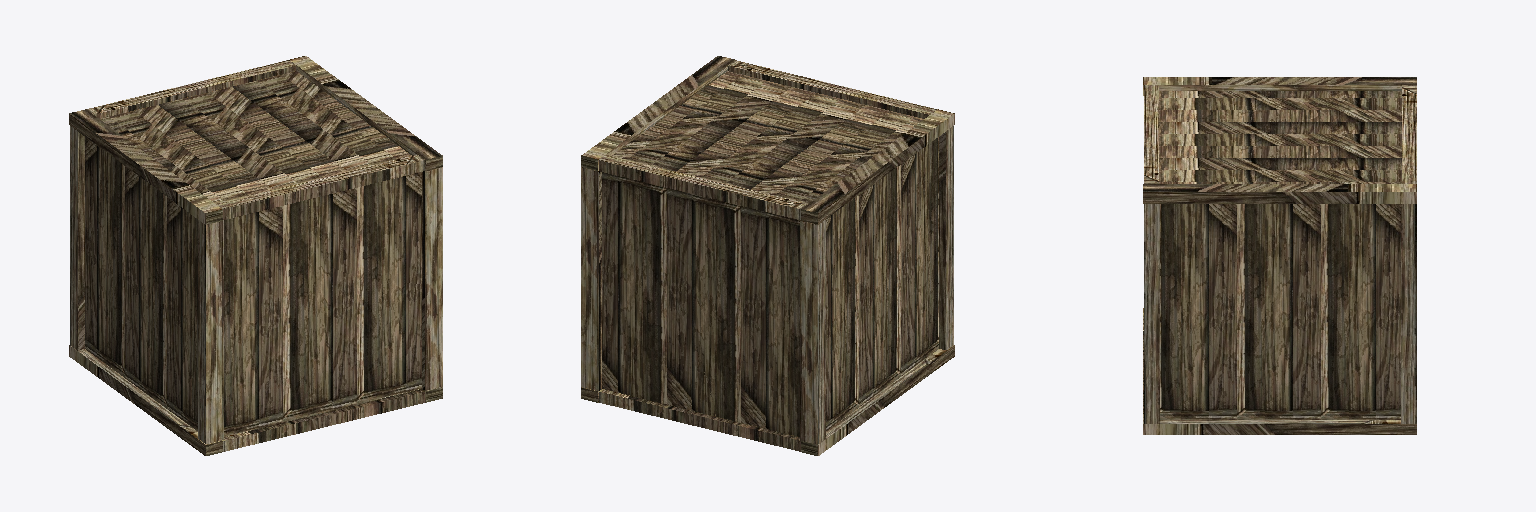
3 views of the same model, side by side, from view 1: azimuth 30°, elevation 25°; view 2: azimuth 150°, elevation 25°; view 3: azimuth 270°, elevation 25° (orthographic).
Visible parts, largest first — view 1: wooden_crate_011, wooden_crate_001, wooden_crate_012, wooden_crate_004, wooden_crate_009, wooden_crate_005, wooden_crate_013, wooden_crate_010, wooden_crate_c; view 2: wooden_crate_010, wooden_crate_001, wooden_crate_012, wooden_crate_002, wooden_crate_005, wooden_crate_004, wooden_crate_c, wooden_crate_011, wooden_crate_013; view 3: wooden_crate_003, wooden_crate_001, wooden_crate_006, wooden_crate_012, wooden_crate_c, wooden_crate_009, wooden_crate_002, wooden_crate_011, wooden_crate_010, wooden_crate_013.
Part boxes in pixels (bbox=[...]): wooden_crate_011: bbox=[198, 199, 442, 443]; wooden_crate_001: bbox=[69, 56, 336, 197]; wooden_crate_012: bbox=[169, 79, 442, 224]; wooden_crate_004: bbox=[85, 137, 197, 328]; wooden_crate_009: bbox=[308, 167, 442, 288]; wooden_crate_005: bbox=[85, 256, 197, 430]; wooden_crate_013: bbox=[105, 370, 442, 455]; wooden_crate_010: bbox=[70, 71, 294, 350]; wooden_crate_c: bbox=[69, 345, 112, 381]; wooden_crate_010: bbox=[581, 167, 825, 444]; wooden_crate_001: bbox=[581, 130, 918, 224]; wooden_crate_012: bbox=[613, 56, 954, 150]; wooden_crate_002: bbox=[581, 265, 715, 415]; wooden_crate_005: bbox=[826, 204, 938, 430]; wooden_crate_004: bbox=[826, 137, 938, 363]; wooden_crate_c: bbox=[581, 387, 854, 455]; wooden_crate_011: bbox=[939, 126, 953, 349]; wooden_crate_013: bbox=[847, 345, 954, 428]; wooden_crate_003: bbox=[1160, 204, 1400, 366]; wooden_crate_001: bbox=[1216, 77, 1416, 203]; wooden_crate_006: bbox=[1160, 291, 1400, 419]; wooden_crate_012: bbox=[1143, 77, 1353, 203]; wooden_crate_c: bbox=[1206, 420, 1416, 434]; wooden_crate_009: bbox=[1144, 204, 1159, 325]; wooden_crate_002: bbox=[1401, 302, 1416, 423]; wooden_crate_011: bbox=[1144, 326, 1159, 423]; wooden_crate_010: bbox=[1401, 204, 1416, 301]; wooden_crate_013: bbox=[1143, 308, 1205, 434].
Bounding box in the file's own units: 1.47 × 1.44 × 1.47.
Materials: 1 (1 with a texture image).